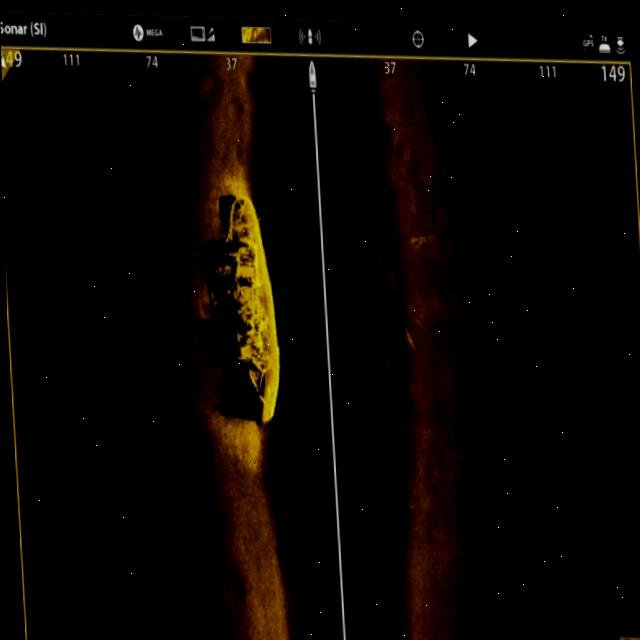shipwreck: (214, 183, 284, 426)
